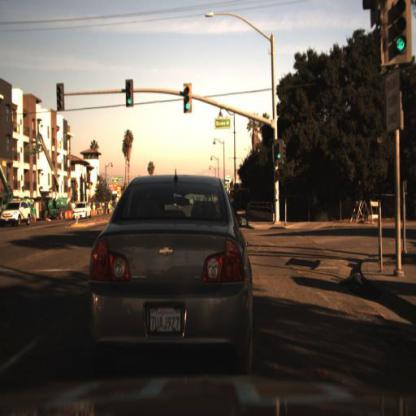car: (78, 152, 264, 394), (1, 201, 34, 229), (69, 196, 94, 225)
trafficLight: (181, 78, 193, 117), (52, 80, 64, 112), (123, 74, 133, 108)
trafficLight-Green: (381, 1, 416, 77), (275, 132, 289, 170)
